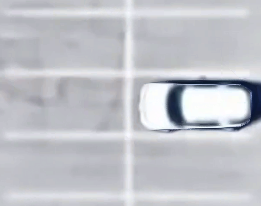Occupied: (129, 74, 248, 137)
Vacant: (3, 73, 128, 137), (2, 11, 127, 74), (127, 11, 250, 75), (2, 136, 129, 197), (128, 136, 250, 198)
